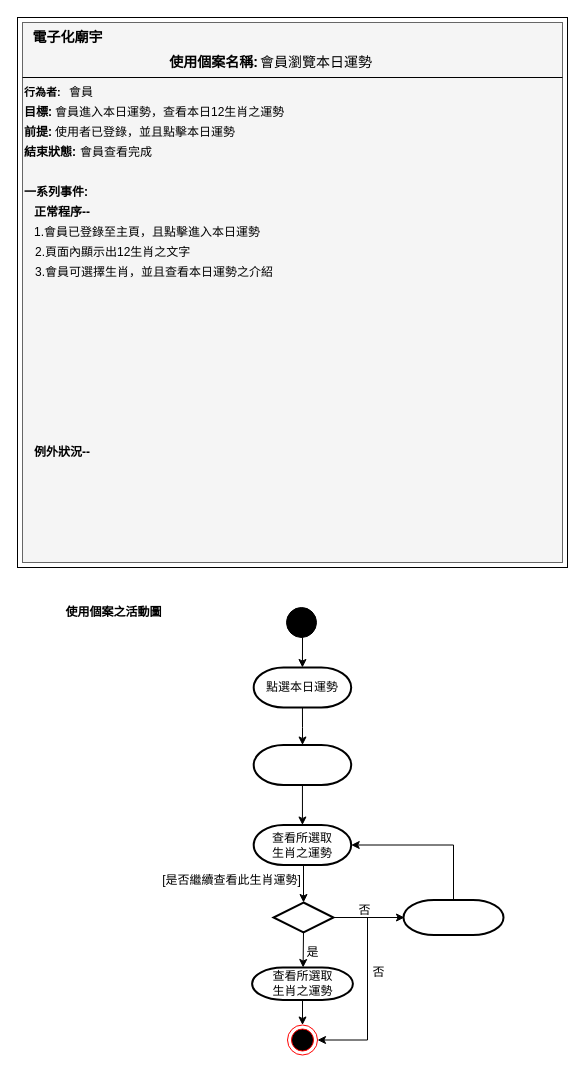
This 585x1073 diagram has some shape labels left out. The centre of each missing label's shape, as x and y in pixels:
"選取欲查看 之生肖" belongs at pixel 302 765.
"點選其他生肖" belongs at pixel 453 917.
